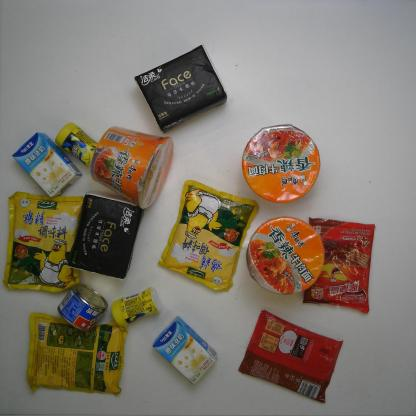Canned Food: (56, 283, 110, 333)
Dessert: (234, 307, 348, 407), (300, 215, 376, 315)
Gum: (52, 120, 101, 169), (108, 287, 164, 329)
Instant Noodles: (87, 123, 174, 211), (238, 122, 323, 205), (244, 215, 326, 297)
Milk: (147, 314, 222, 388), (9, 128, 85, 200)
Seasoner: (156, 178, 260, 293), (20, 307, 132, 399), (0, 189, 86, 295)
Tissue: (132, 41, 231, 136), (65, 189, 147, 281)
